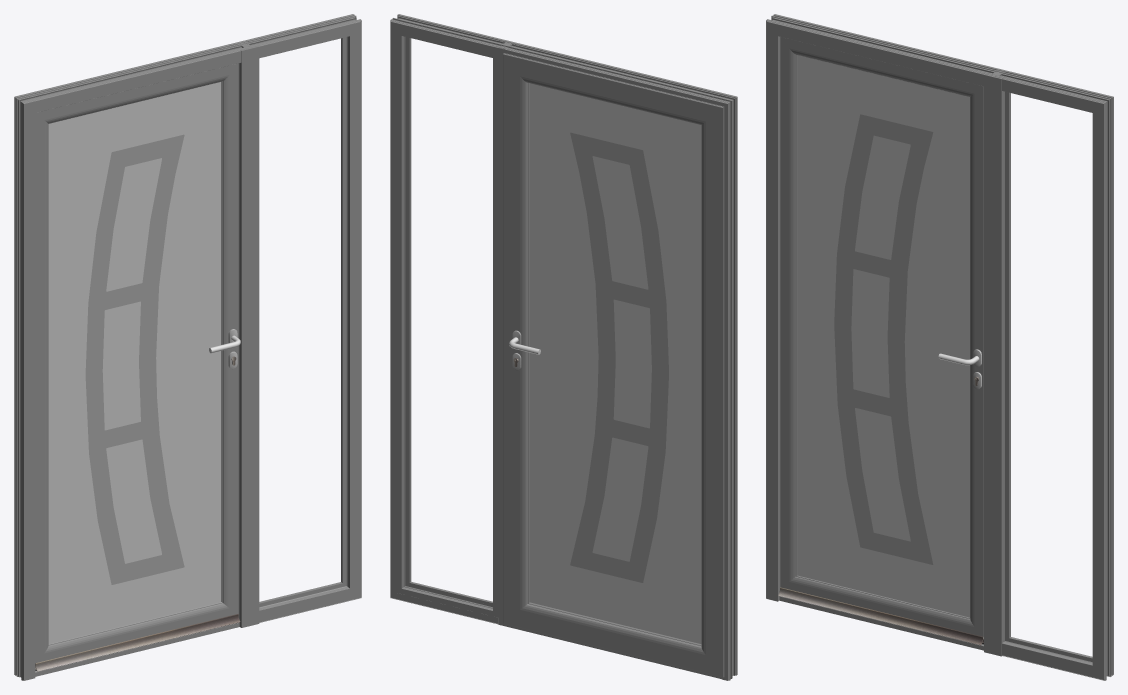
3 renders of one model, left to right at view 1: azimuth 30°, elevation 25°; view 2: azimuth 150°, elevation 25°; view 3: azimuth 330°, elevation 25°, orthographic.
Parts seen in each view (by area): view 1: fosco_15, aroFixo, aroMovel, transparente_15, montanteCentral, bite, borracha, escovas, rodaPe; view 2: fosco_15, aroMovel, aroFixo, transparente_15, bite, montanteCentral, borracha, rodaPe; view 3: fosco_15, aroFixo, aroMovel, transparente_15, montanteCentral, bite, escovas, borracha, rodaPe.
Part boxes in pixels (left/top/right/bottom): fosco_15: left=48, top=82, right=221, bottom=643; aroFixo: left=14, top=14, right=361, bottom=680; aroMovel: left=35, top=63, right=238, bottom=663; transparente_15: left=85, top=134, right=184, bottom=584; montanteCentral: left=238, top=42, right=259, bottom=627; bite: left=259, top=37, right=346, bottom=607; borracha: left=259, top=37, right=345, bottom=606; escovas: left=35, top=614, right=240, bottom=671; rodaPe: left=35, top=622, right=239, bottom=676; fosco_15: left=529, top=83, right=701, bottom=644; aroMovel: left=503, top=53, right=724, bottom=677; aroFixo: left=390, top=14, right=737, bottom=680; transparente_15: left=570, top=132, right=668, bottom=582; bite: left=396, top=29, right=498, bottom=617; montanteCentral: left=498, top=40, right=518, bottom=626; borracha: left=404, top=36, right=492, bottom=608; rodaPe: left=505, top=624, right=721, bottom=679; fosco_15: left=797, top=55, right=969, bottom=617; aroFixo: left=766, top=14, right=1113, bottom=680; aroMovel: left=780, top=37, right=983, bottom=638; transparente_15: left=834, top=114, right=933, bottom=564; montanteCentral: left=984, top=70, right=1004, bottom=656; bite: left=1005, top=91, right=1092, bottom=661; escovas: left=778, top=587, right=983, bottom=645; borracha: left=1006, top=92, right=1092, bottom=660; rodaPe: left=779, top=596, right=983, bottom=650.
Bounding box in the file's own units: 1320 × 2149 × 185.
Materials: 10 (4 with a texture image).
